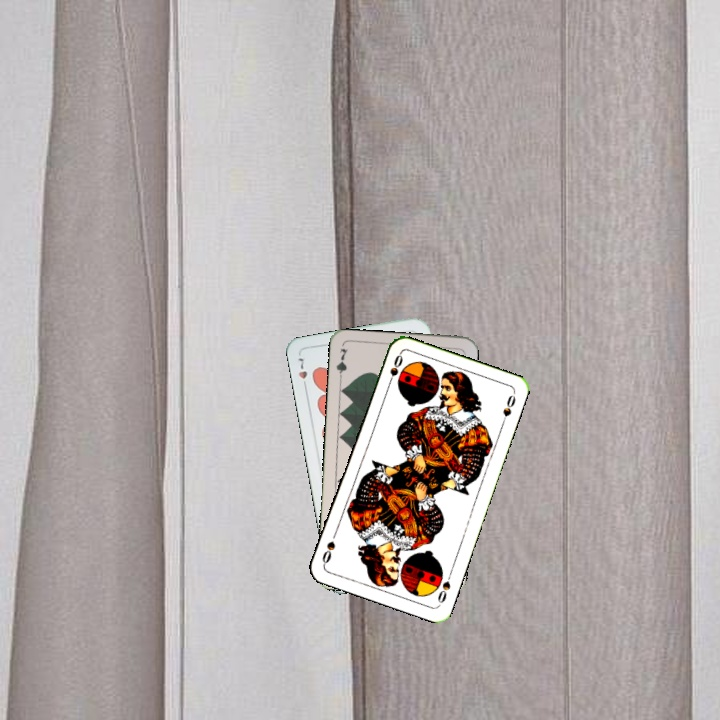G7: (332, 344, 350, 385)
H7: (294, 354, 310, 392)
SO: (384, 350, 405, 389), (434, 568, 455, 606)
